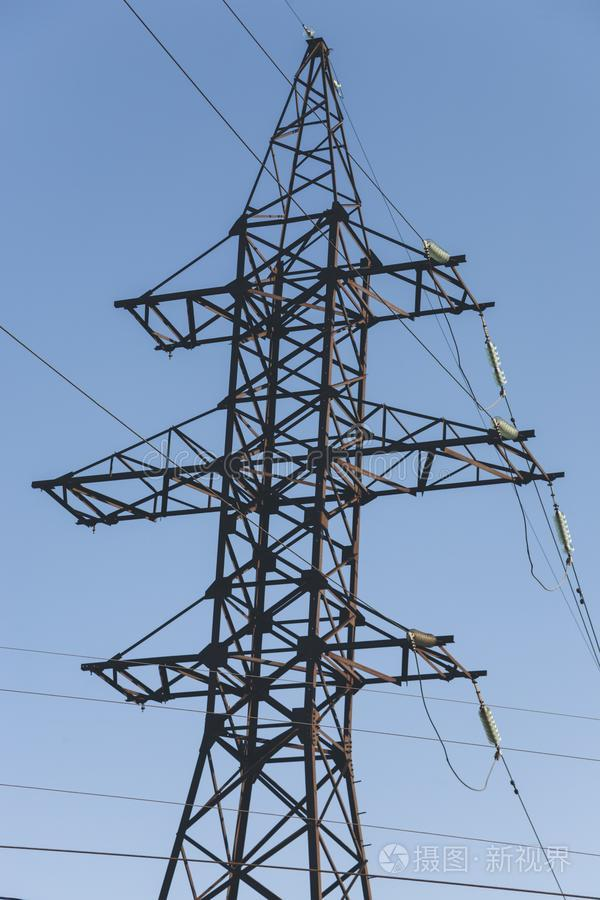insulator: (482, 342, 511, 390), (553, 512, 576, 560), (477, 706, 503, 748), (426, 242, 451, 267)
